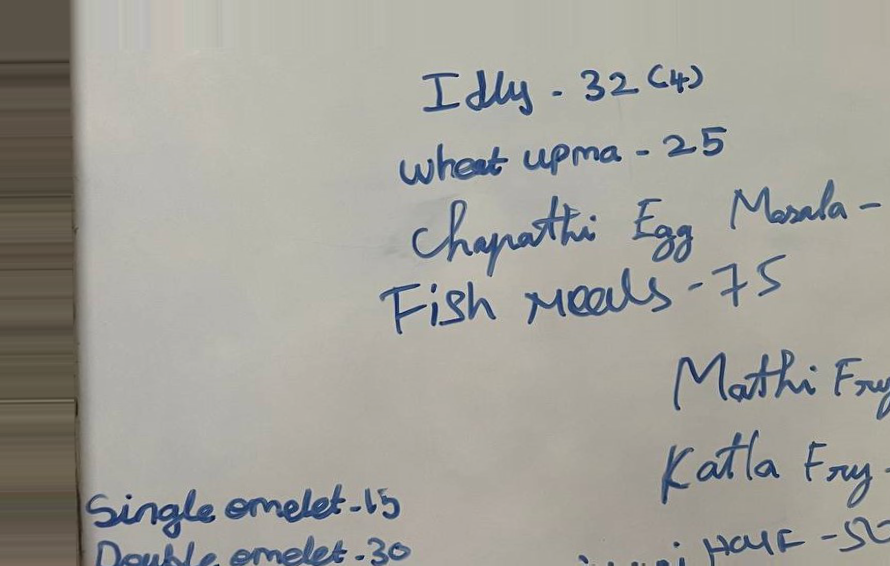chapathi egg masala - 93: (404, 188, 890, 256)
double omelet - 30: (92, 533, 412, 566)
fish Meals - 75: (376, 251, 794, 338)
idly(4) - 32: (414, 51, 711, 115)
katla fry - 60: (657, 425, 890, 510)
mathi fry - 50: (666, 347, 890, 420)
single omelet - 15: (81, 480, 417, 537)
wheat upma - 25: (387, 122, 736, 181)
